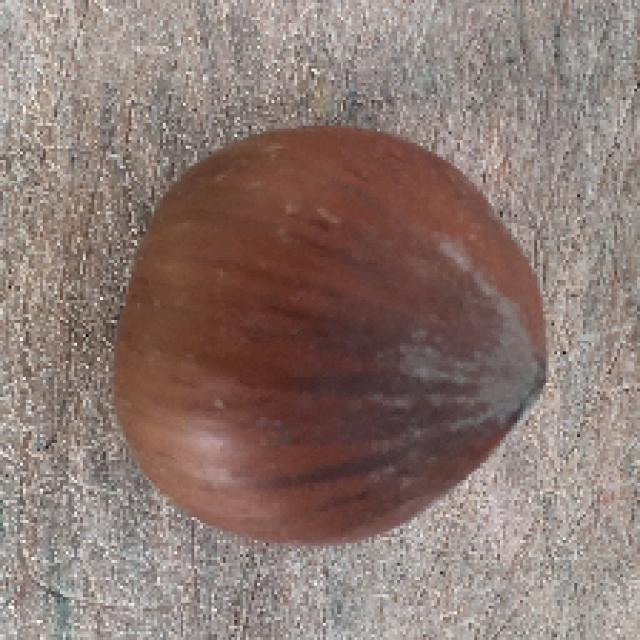DamagedHazelnut: (106, 126, 550, 547)
